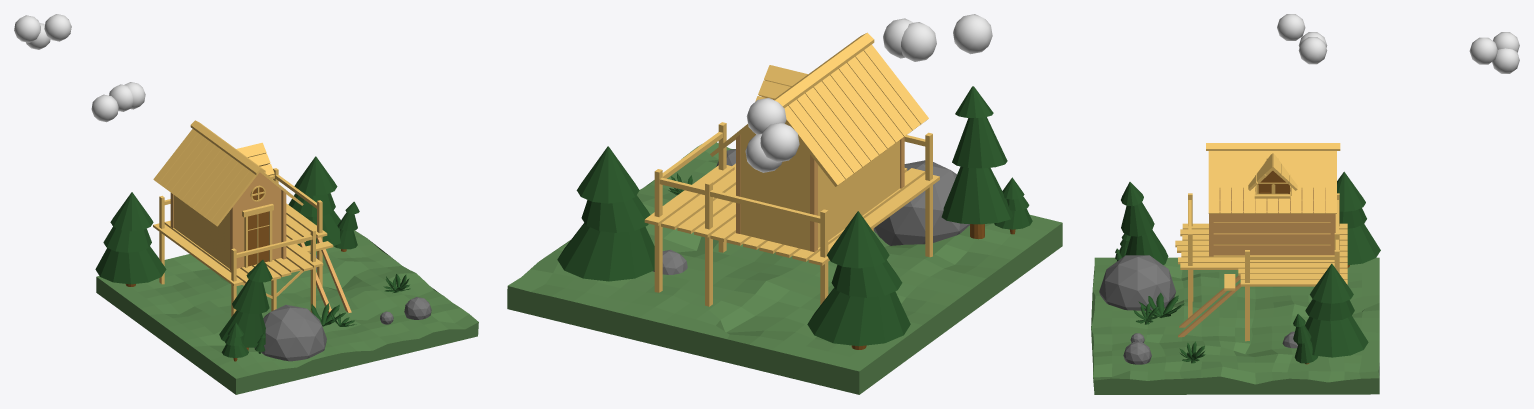
Rendered from cabaña.glb.
The picture shows the model from 3 angles, left to right: view 1: azimuth 30°, elevation 25°; view 2: azimuth 150°, elevation 25°; view 3: azimuth 270°, elevation 25°; orthographic projection. The views are drawn at different scales.
Visible parts, largest first — view 1: Plane, Plane.007, Plane.001, Cube.007, Circle.002, Icosphere, Cylinder.003, Circle.001, Cube.008, Plane.008, Cylinder.002, Plane.004 (+8 smaller); view 2: Plane, Plane.007, Cube.007, Plane.001, Circle.002, Circle.001, Cylinder.003, Icosphere, Plane.008, Icosphere.006, Icosphere.007, Icosphere.004 (+10 smaller); view 3: Plane, Plane.006, Plane.001, Circle.001, Icosphere, Circle.002, Cylinder.003, Plane.019, Plane.020, Plane.018, Plane.008, Plane.021 (+15 smaller).
Boxes of the visible parts, bbox=[...] form: Plane: bbox=[96, 230, 478, 394]; Plane.007: bbox=[153, 129, 259, 226]; Plane.001: bbox=[153, 168, 327, 316]; Cube.007: bbox=[173, 172, 281, 268]; Circle.002: bbox=[95, 192, 166, 286]; Icosphere: bbox=[254, 304, 326, 361]; Cylinder.003: bbox=[219, 259, 272, 350]; Circle.001: bbox=[288, 156, 340, 246]; Cube.008: bbox=[248, 211, 268, 266]; Plane.008: bbox=[190, 120, 265, 174]; Cylinder.002: bbox=[334, 201, 359, 251]; Plane.004: bbox=[300, 235, 351, 313]; Plane: bbox=[507, 142, 1062, 394]; Plane.007: bbox=[784, 44, 928, 186]; Cube.007: bbox=[740, 123, 899, 250]; Plane.001: bbox=[644, 132, 939, 306]; Circle.002: bbox=[807, 211, 910, 349]; Circle.001: bbox=[557, 146, 654, 281]; Cylinder.003: bbox=[941, 86, 1012, 239]; Icosphere: bbox=[873, 160, 969, 245]; Plane.008: bbox=[773, 32, 874, 108]; Icosphere.006: bbox=[953, 14, 992, 54]; Icosphere.007: bbox=[760, 122, 799, 162]; Icosphere.004: bbox=[901, 22, 936, 61]; Plane: bbox=[1091, 257, 1379, 394]; Plane.006: bbox=[1208, 151, 1336, 213]; Plane.001: bbox=[1175, 193, 1347, 317]; Circle.001: bbox=[1296, 263, 1368, 357]; Icosphere: bbox=[1099, 255, 1175, 310]; Circle.002: bbox=[1337, 171, 1380, 267]; Cylinder.003: bbox=[1121, 182, 1168, 264]; Plane.019: bbox=[1213, 233, 1330, 244]; Plane.020: bbox=[1213, 222, 1330, 232]; Plane.018: bbox=[1213, 245, 1330, 255]; Plane.008: bbox=[1206, 143, 1340, 150]; Plane.021: bbox=[1213, 211, 1330, 221].
Bounding box in the file's own units: 24.05 × 19.88 × 30.02.
